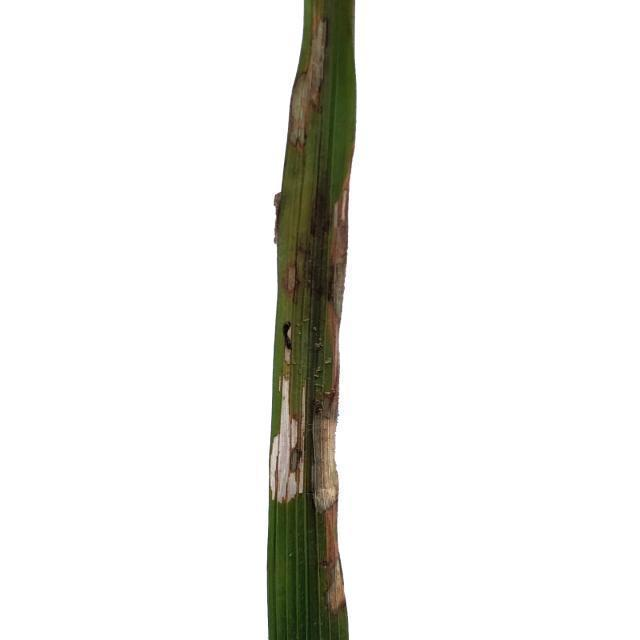Bacterial_Leaf_Blight: (273, 362, 340, 510), (293, 12, 347, 180), (307, 488, 345, 622)
